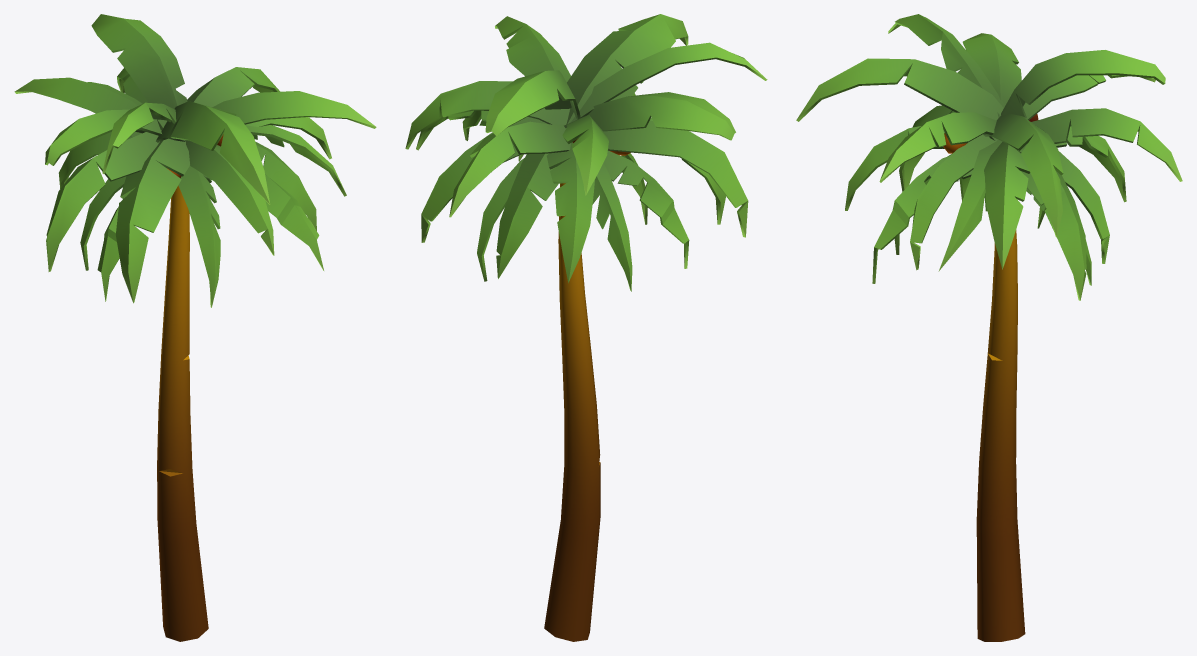
File: tree_9.fbx
3 views of the same model, side by side, from view 1: azimuth 30°, elevation 25°; view 2: azimuth 150°, elevation 25°; view 3: azimuth 270°, elevation 25° (orthographic). The views are drawn at different scales.
Parts seen in each view (by area): view 1: tree_9; view 2: tree_9; view 3: tree_9.
Part boxes in pixels (x1,y1,x2,y2): tree_9: [14, 14, 376, 641]; tree_9: [405, 14, 767, 641]; tree_9: [796, 14, 1182, 641].
Size of the model in its own units: 210 by 382 by 228.
